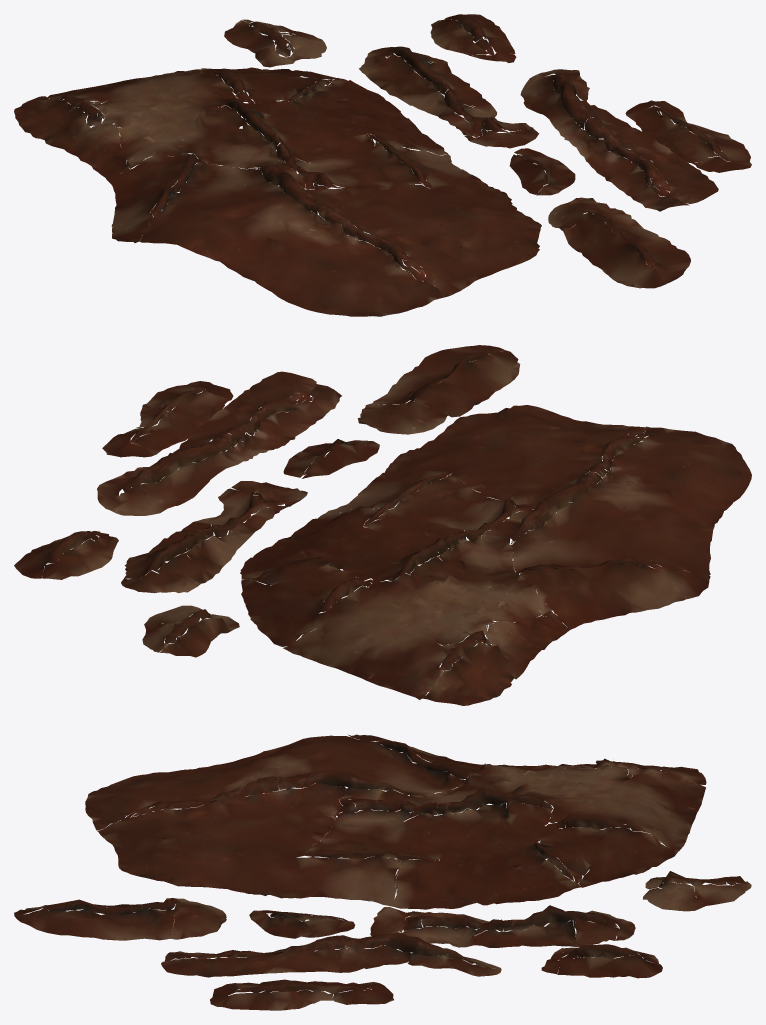
Rendered from root_cluster_02.glb.
3 views of the same model, one above another, from view 1: azimuth 30°, elevation 25°; view 2: azimuth 150°, elevation 25°; view 3: azimuth 270°, elevation 25° (orthographic). The views are drawn at different scales.
Parts seen in each view (by area): view 1: root_cluster_02_a, root_cluster_02_f, root_cluster_02_d, root_cluster_02_b, root_cluster_02_g, root_cluster_02_e, root_cluster_02_h, root_cluster_02_c; view 2: root_cluster_02_a, root_cluster_02_f, root_cluster_02_d, root_cluster_02_b, root_cluster_02_g, root_cluster_02_h, root_cluster_02_e, root_cluster_02_c; view 3: root_cluster_02_a, root_cluster_02_f, root_cluster_02_d, root_cluster_02_b, root_cluster_02_g, root_cluster_02_h, root_cluster_02_e, root_cluster_02_c.
Part boxes in pixels (<box>): root_cluster_02_a: <box>14,67,541,316</box>; root_cluster_02_f: <box>520,69,718,211</box>; root_cluster_02_d: <box>359,46,538,148</box>; root_cluster_02_b: <box>548,197,690,288</box>; root_cluster_02_g: <box>625,100,751,172</box>; root_cluster_02_e: <box>224,19,326,67</box>; root_cluster_02_h: <box>430,14,516,62</box>; root_cluster_02_c: <box>509,148,575,195</box>; root_cluster_02_a: <box>240,405,751,705</box>; root_cluster_02_f: <box>97,371,341,515</box>; root_cluster_02_d: <box>121,481,307,593</box>; root_cluster_02_b: <box>358,345,520,434</box>; root_cluster_02_g: <box>102,381,233,457</box>; root_cluster_02_h: <box>14,531,118,579</box>; root_cluster_02_e: <box>142,605,239,657</box>; root_cluster_02_c: <box>283,439,379,478</box>; root_cluster_02_a: <box>85,734,706,909</box>; root_cluster_02_f: <box>161,932,501,977</box>; root_cluster_02_d: <box>370,905,635,947</box>; root_cluster_02_b: <box>14,898,226,940</box>; root_cluster_02_g: <box>210,979,393,1010</box>; root_cluster_02_h: <box>541,944,662,978</box>; root_cluster_02_e: <box>643,871,751,911</box>; root_cluster_02_c: <box>249,910,354,938</box>.
Bounding box in the file's own units: 2.38 × 0.1968 × 2.71.
Materials: 1 (1 with a texture image).
